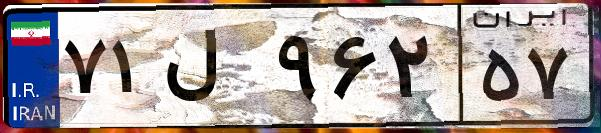1: (110, 28, 158, 98)
2: (385, 28, 445, 110)
5: (475, 38, 525, 113)
6: (330, 28, 385, 110)
7: (57, 26, 110, 100), (525, 38, 570, 115)
9: (270, 28, 330, 110)
ل: (158, 20, 270, 120)
